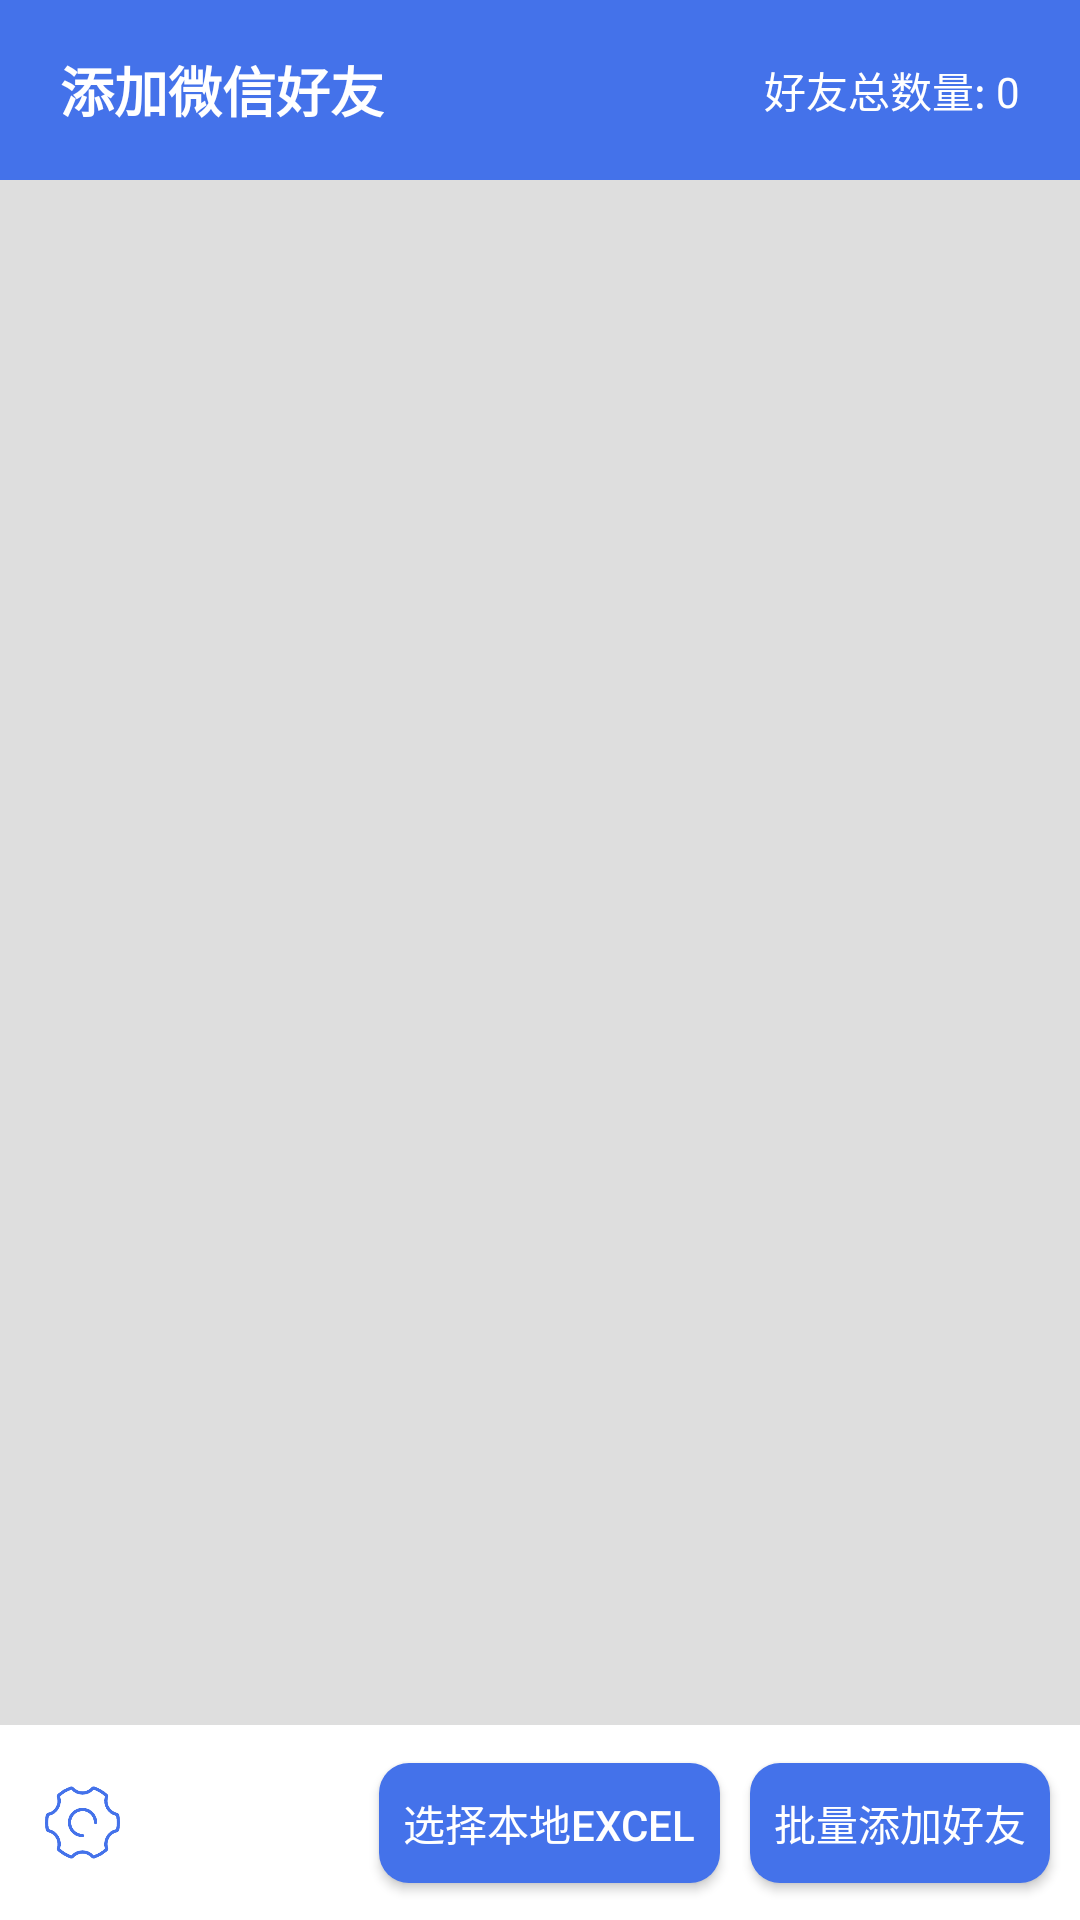

Where to tap for icons on this 1080px×1920px app screen, as point (x, y):
setting: point (82, 1822)
